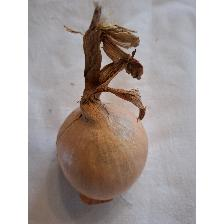Zwiebel: (54, 2, 150, 206)
